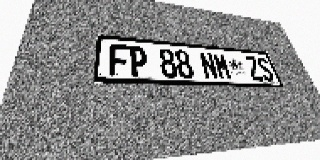8: (158, 48, 179, 78), (174, 49, 195, 79)
F: (109, 44, 129, 76)
M: (212, 53, 233, 80)
N: (198, 52, 219, 80)
P: (128, 45, 148, 77)
S: (255, 57, 276, 82)
Z: (244, 56, 265, 81)
